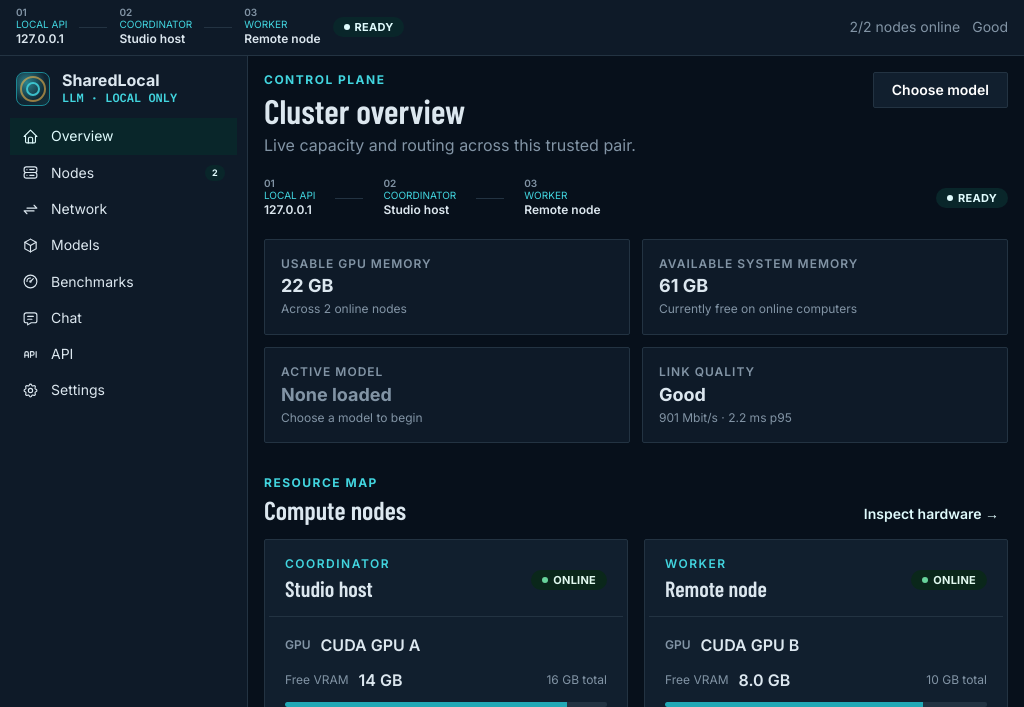
Test: SharedLocalLLM app › navigates between the instrument panels
Check: the heading "Cluster overview" is shown, box x1=264 y1=90 x2=465 y2=131
Click the button "Network".
click(124, 209)  # box x1=10 y1=191 x2=237 y2=227
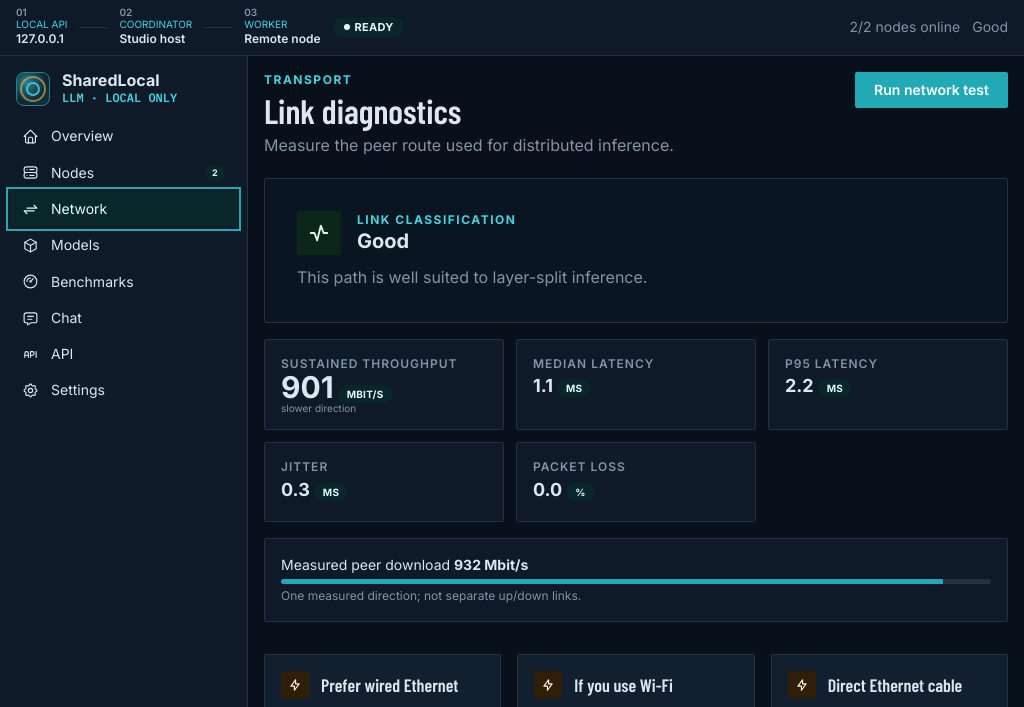
Check: the heading "Link diagnostics" is shown, box x1=264 y1=90 x2=461 y2=131
Click the button "API".
click(124, 354)  # box x1=10 y1=336 x2=237 y2=372
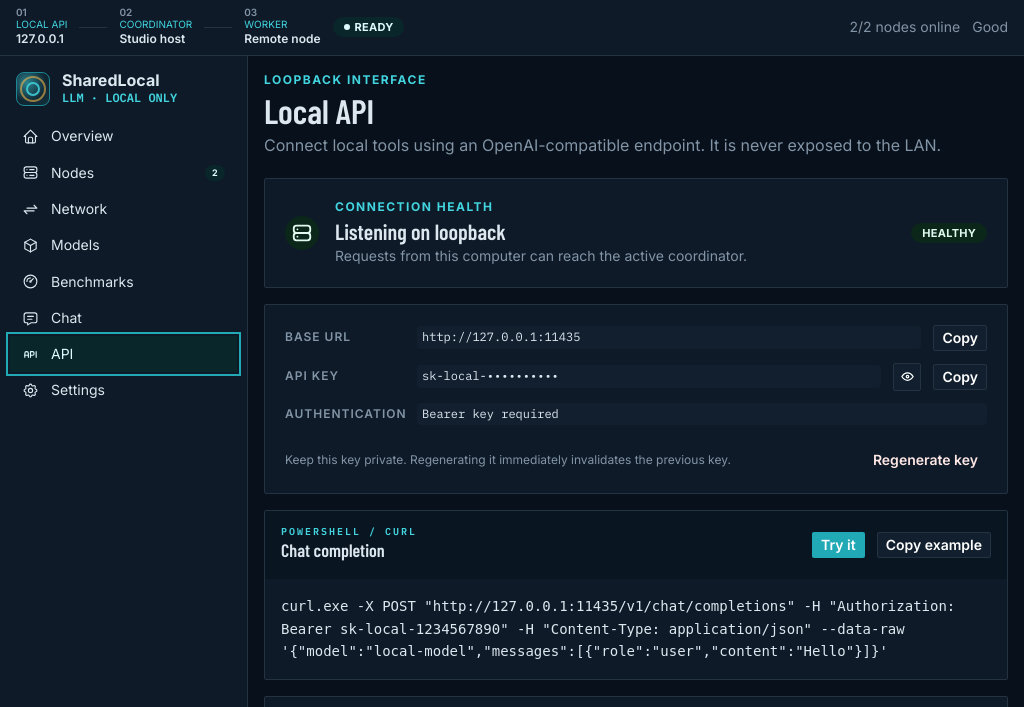
Check: the heading "Local API" is shown, box x1=264 y1=90 x2=374 y2=131
